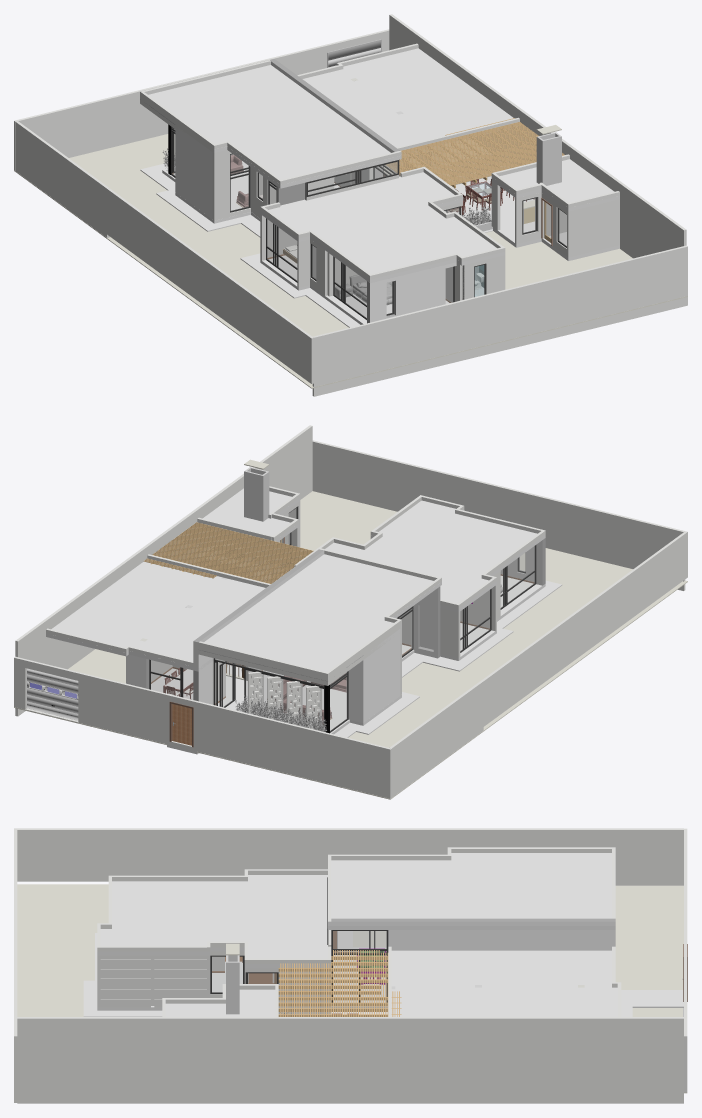
File: casa-processed.gltf
3 renders of one model, top to bottom at view 1: azimuth 30°, elevation 25°; view 2: azimuth 150°, elevation 25°; view 3: azimuth 270°, elevation 25°, orthographic. The views are drawn at different scales.
Visible parts, largest first — view 1: Muro básico [331599], Suelo [331663], Suelo [331607], Suelo [331688], Suelo [331678], Muro básico [331598], Muro básico [331597], Muro básico [331600], Muro básico [331651], Muro básico [330952], Suelo [331733], Suelo [331997] (+23 smaller); view 2: Muro básico [331597], Suelo [331663], Muro básico [331599], Suelo [331607], Suelo [331678], Muro básico [331598], Suelo [331688], Muro básico [331600], Suelo [331616], Muro básico [331651], Suelo [331733], Muro básico [331837] (+27 smaller); view 3: Muro básico [331600], Suelo [331607], Muro básico [331598], Suelo [331663], Suelo [331688], Suelo [331678], Muro básico [331778], Muro básico [331650], Muro básico [331651], Suelo [331733], Muro básico [331007], Muro básico [330957] (+19 smaller).
Part boxes in pixels (x1,y1,x2,y2): Muro básico [331599]: [312, 245, 687, 396]; Suelo [331663]: [14, 134, 687, 388]; Suelo [331607]: [140, 65, 401, 188]; Suelo [331688]: [260, 172, 505, 283]; Suelo [331678]: [302, 48, 513, 147]; Muro básico [331598]: [107, 188, 313, 383]; Muro básico [331597]: [14, 29, 389, 170]; Muro básico [331600]: [389, 14, 686, 258]; Muro básico [331651]: [45, 143, 109, 237]; Muro básico [330952]: [367, 262, 456, 323]; Suelo [331733]: [140, 163, 360, 327]; Suelo [331997]: [491, 159, 619, 211]; Muro básico [331597]: [14, 656, 391, 798]; Suelo [331663]: [14, 491, 687, 799]; Muro básico [331599]: [312, 440, 685, 590]; Suelo [331607]: [193, 554, 441, 680]; Suelo [331678]: [46, 561, 265, 671]; Muro básico [331598]: [481, 531, 687, 726]; Suelo [331688]: [325, 500, 545, 612]; Muro básico [331600]: [15, 425, 312, 716]; Suelo [331616]: [151, 575, 545, 734]; Muro básico [331651]: [420, 681, 483, 774]; Suelo [331733]: [167, 580, 562, 754]; Muro básico [331837]: [367, 629, 400, 719]; Muro básico [331600]: [17, 1017, 683, 1103]; Suelo [331607]: [328, 853, 615, 929]; Muro básico [331598]: [14, 828, 476, 881]; Suelo [331663]: [17, 884, 687, 1093]; Suelo [331688]: [97, 875, 330, 968]; Suelo [331678]: [391, 950, 617, 1016]; Muro básico [331778]: [388, 930, 584, 950]; Muro básico [331650]: [615, 828, 683, 885]; Muro básico [331651]: [477, 828, 615, 847]; Suelo [331733]: [83, 931, 683, 1016]; Muro básico [331007]: [100, 955, 150, 1007]; Muro básico [330957]: [154, 955, 206, 1007].
Size of the model in its own units: 21.56 by 6.35 by 29.52.
49 materials, 2 textured.
